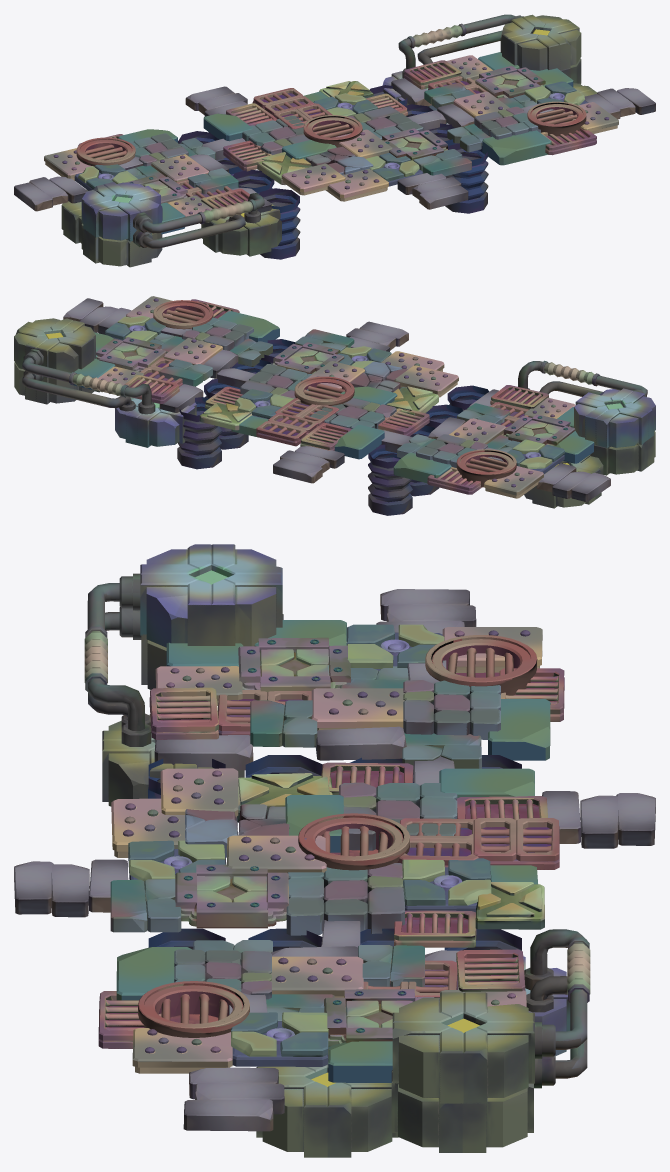
The model's file is battlescence-1.fbx.
The picture shows the model from 3 angles, top to bottom: view 1: azimuth 30°, elevation 25°; view 2: azimuth 150°, elevation 25°; view 3: azimuth 270°, elevation 25°; orthographic projection. The views are drawn at different scales.
Parts seen in each view (by area): view 1: Plane.017, Plane.022, Plane.026, Plane.019, Plane.021, Plane.020, Plane.034, Plane.030, Cube.033, Cylinder.006, Cube.052, Circle.002 (+57 smaller); view 2: Plane.022, Plane.017, Plane.019, Plane.004, Plane.031, Plane.027, Plane.026, Circle.002, Cylinder.011, Plane.020, Cube.052, Circle.004 (+70 smaller); view 3: Plane.017, Plane.022, Plane.018, Plane.019, Plane.001, Cube.032, Circle.003, Plane.026, Circle.004, Cylinder.006, Cube.022, Cube.040 (+64 smaller).
Boxes of the visible parts, <box> form: Plane.017: <box>500,14,581,70</box>; Plane.022: <box>81,182,162,241</box>; Plane.026: <box>132,193,264,248</box>; Plane.019: <box>398,14,523,78</box>; Plane.021: <box>201,201,281,256</box>; Plane.020: <box>81,223,162,267</box>; Plane.034: <box>259,188,300,259</box>; Plane.030: <box>445,143,488,213</box>; Cube.033: <box>482,130,551,165</box>; Cylinder.006: <box>527,101,586,136</box>; Cube.052: <box>242,115,317,154</box>; Circle.002: <box>475,65,545,98</box>; Plane.022: <box>574,388,655,447</box>; Plane.017: <box>14,318,95,378</box>; Plane.019: <box>22,348,155,414</box>; Plane.004: <box>115,397,196,447</box>; Plane.031: <box>368,444,412,515</box>; Plane.027: <box>177,397,222,469</box>; Plane.026: <box>518,360,647,396</box>; Circle.002: <box>96,337,166,372</box>; Cylinder.011: <box>456,449,516,487</box>; Plane.020: <box>590,431,655,475</box>; Cube.052: <box>310,398,396,428</box>; Circle.004: <box>503,414,575,446</box>; Plane.017: <box>392,992,534,1103</box>; Plane.022: <box>140,544,282,647</box>; Plane.018: <box>256,1046,398,1157</box>; Plane.019: <box>524,929,590,1088</box>; Plane.001: <box>391,1070,533,1152</box>; Cube.032: <box>286,863,404,935</box>; Circle.003: <box>175,864,288,928</box>; Plane.026: <box>84,573,151,746</box>; Circle.004: <box>238,637,350,692</box>; Cylinder.006: <box>138,981,249,1037</box>; Cube.022: <box>231,1012,328,1066</box>; Cube.040: <box>403,680,500,739</box>.
Bounding box in the file's own units: 3648 × 516 × 1882.
